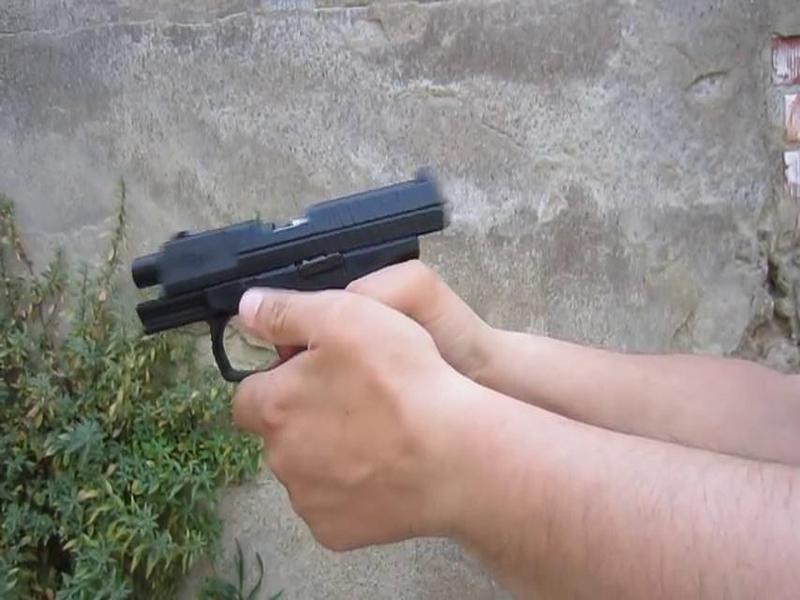Pistola: (117, 154, 431, 395)
